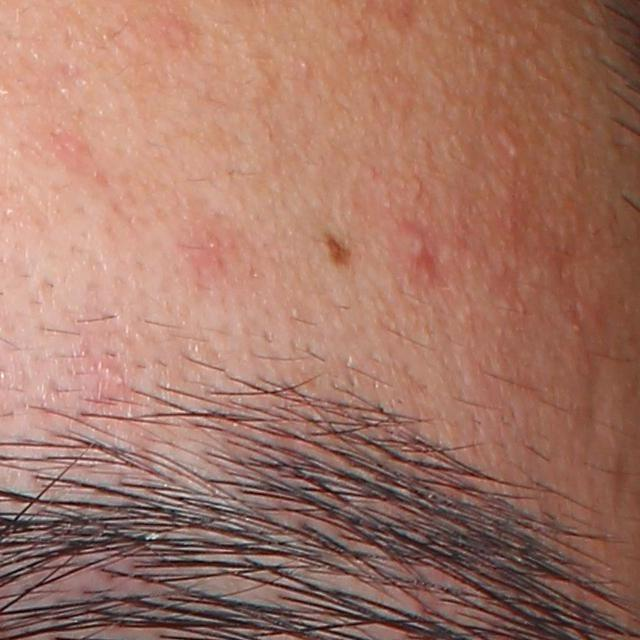nevus: (325, 231, 361, 273)
papule: (397, 223, 430, 268)
